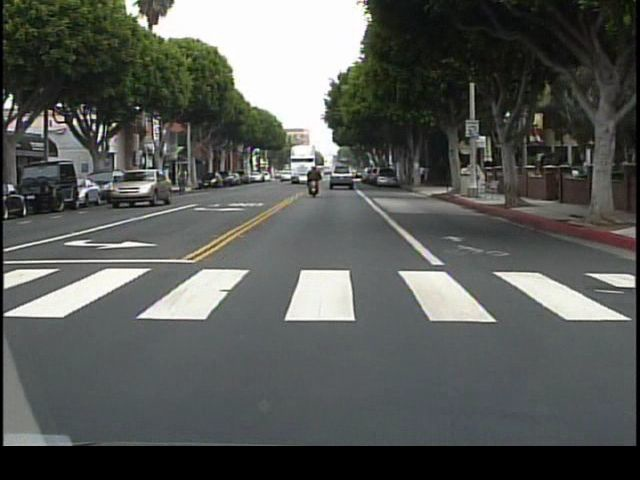person: (305, 160, 323, 201), (170, 164, 190, 190), (424, 162, 433, 189), (419, 163, 425, 186)
